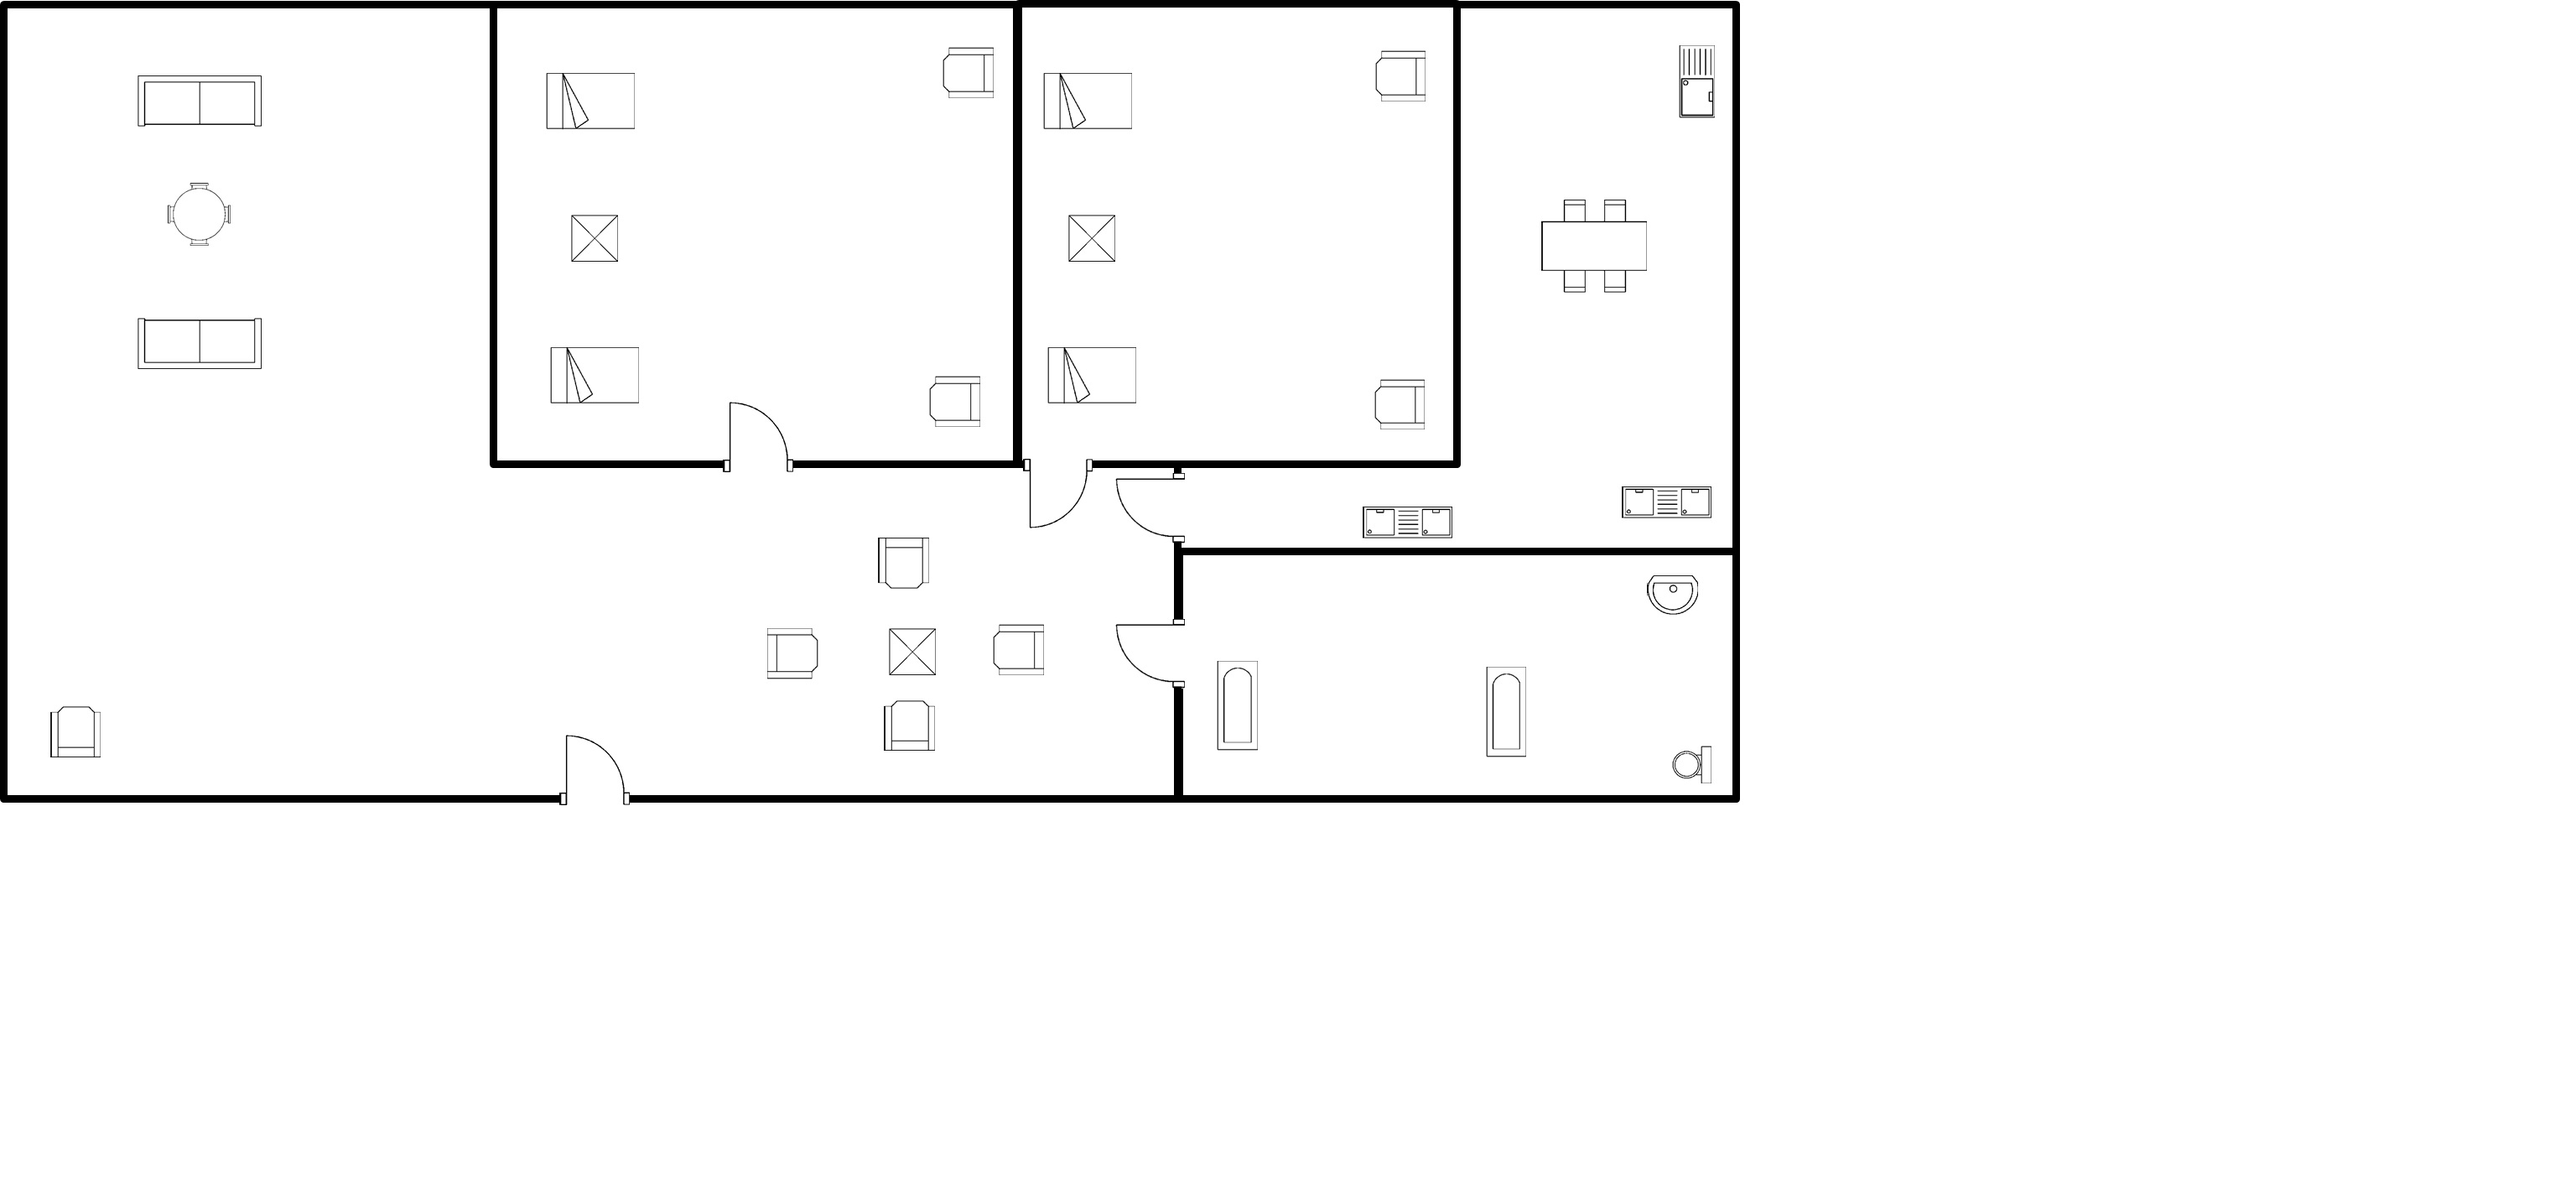armchair: (754, 618, 833, 690), (37, 697, 112, 767), (871, 694, 948, 762), (1363, 370, 1434, 439), (920, 365, 990, 434), (866, 529, 936, 596), (984, 616, 1053, 683), (934, 39, 1001, 107), (1367, 40, 1432, 108)
bed: (1034, 62, 1140, 139), (541, 336, 649, 413), (1039, 339, 1147, 413), (536, 62, 641, 137)
coffee_table: (1062, 208, 1127, 271), (563, 209, 626, 268)
dining_table: (1537, 190, 1657, 302)
large_sink: (1665, 738, 1719, 788)
large_sofa: (128, 66, 273, 140), (128, 306, 270, 377)
round_table: (153, 178, 243, 257)
sink: (1671, 39, 1722, 127)
small_sink: (1636, 569, 1710, 622)
tub: (1473, 661, 1540, 767), (1207, 650, 1267, 762)
twin_sink: (1353, 499, 1461, 546), (1616, 479, 1719, 527)
